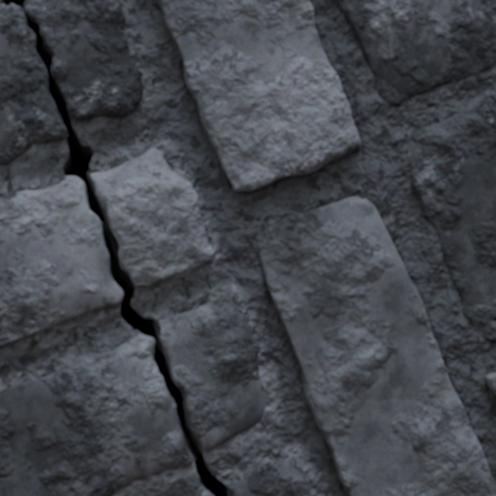brick: (257, 197, 495, 495), (158, 0, 360, 191), (410, 95, 495, 338), (337, 0, 495, 106), (486, 373, 495, 395)
broken_brick: (0, 335, 192, 495), (0, 177, 122, 349), (92, 147, 216, 288), (157, 295, 266, 451), (25, 0, 144, 120), (0, 3, 66, 164), (227, 456, 312, 495)
crack: (0, 0, 233, 495)
